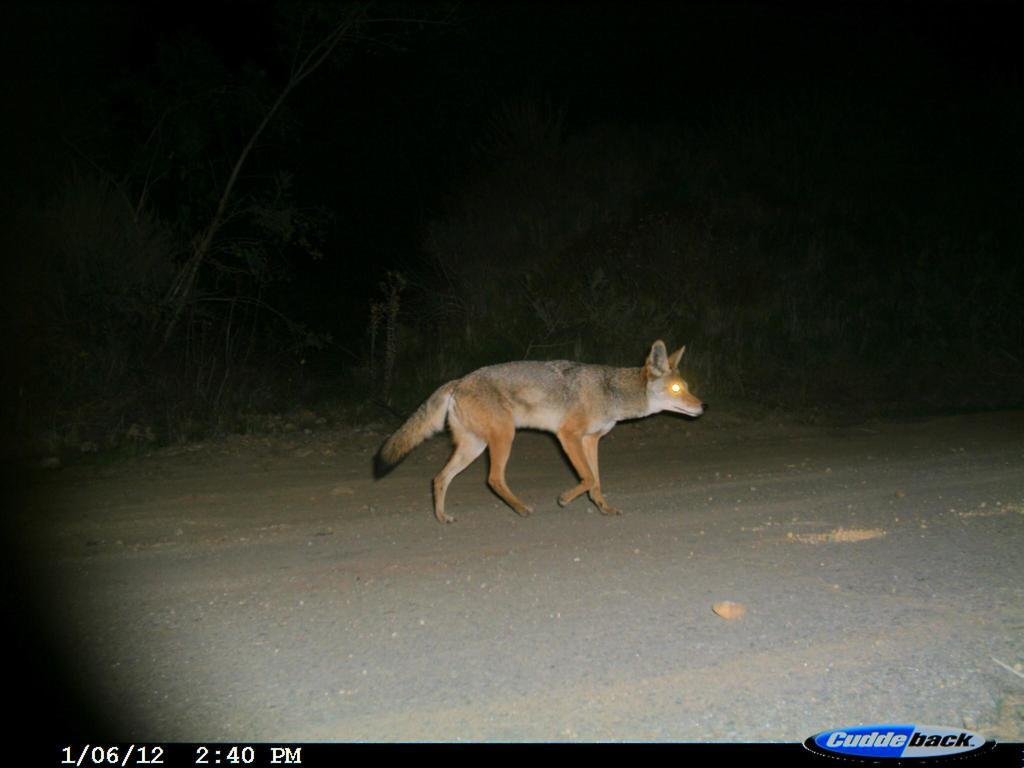coyote: (363, 329, 720, 533)
